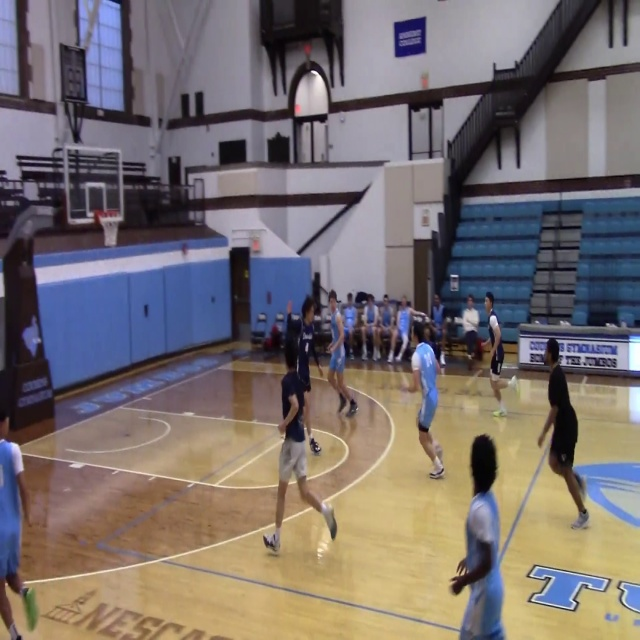Basketball: (480, 339, 492, 353)
